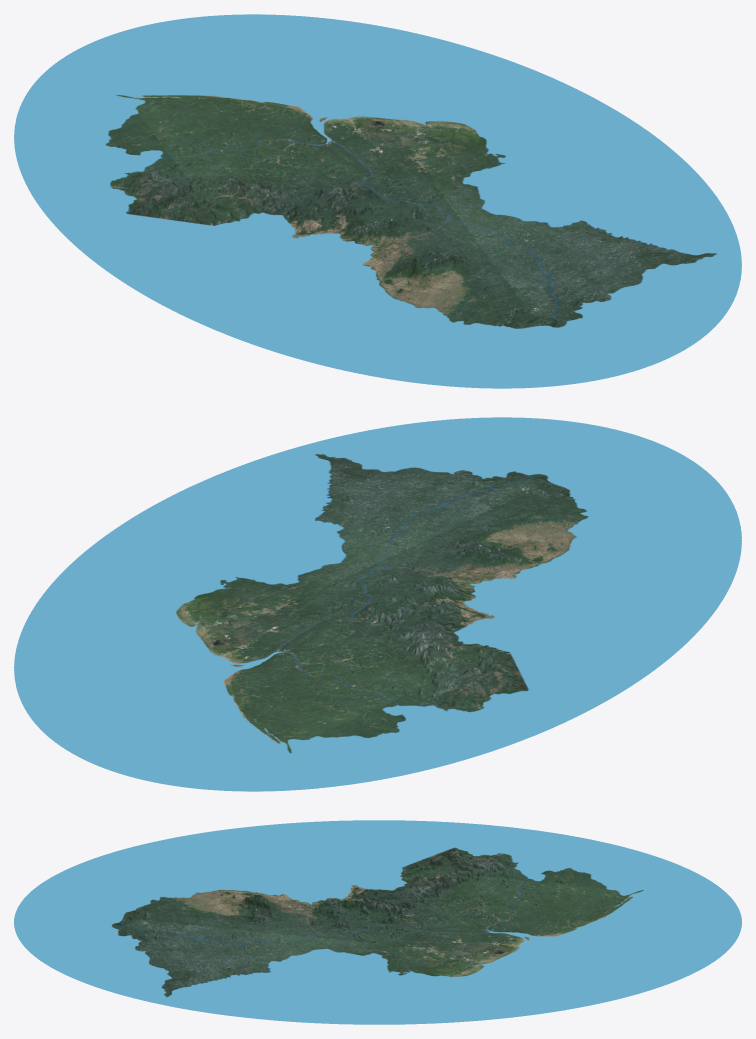
The model's file is GUY-previa-terrain.glb.
The picture shows the model from 3 angles, top to bottom: view 1: azimuth 30°, elevation 25°; view 2: azimuth 150°, elevation 25°; view 3: azimuth 270°, elevation 25°; orthographic projection. The views are drawn at different scales.
Visible parts, largest first — view 1: Guiana; view 2: Guiana; view 3: Guiana.
Boxes of the visible parts, box(x1,y1,x2,y2) form: Guiana: box(14, 14, 741, 388); Guiana: box(14, 417, 741, 791); Guiana: box(14, 820, 741, 1024).
Bounding box in the file's own units: 1.6 × 0.0362 × 2.4.
1 material, 1 textured.
